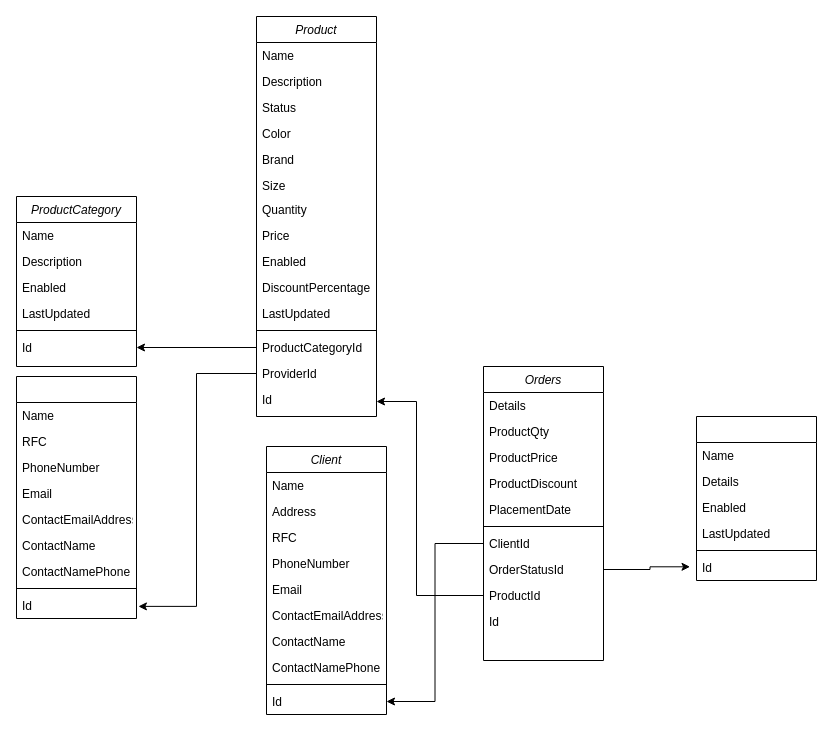
Image size: 833x731. Some labels were removed from this diagram. The box of each missing label's shape, as (x1, y1, x2, y2) in pixels:
OrderStatus: (696, 416, 816, 580)
Provider: (16, 376, 136, 618)
